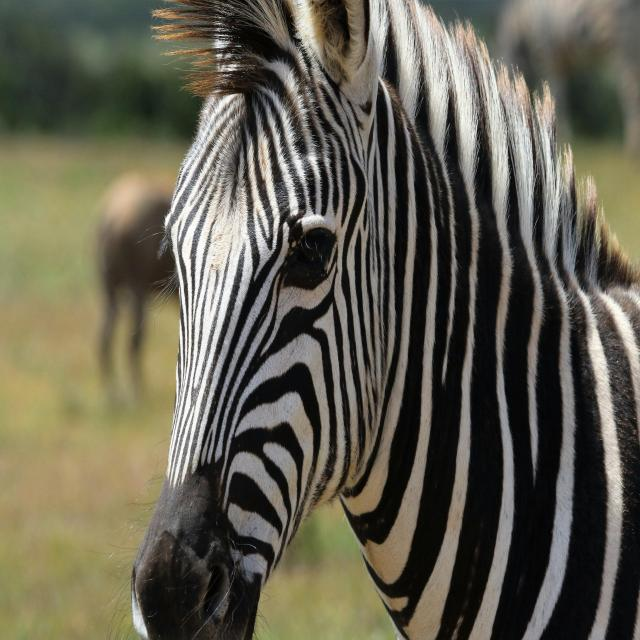Zebra: (125, 0, 640, 640)
